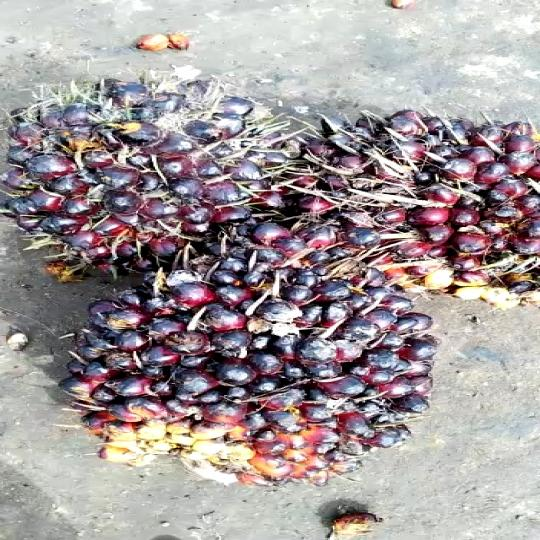kurang masak: (48, 230, 442, 503), (264, 96, 540, 326), (10, 60, 289, 270)
